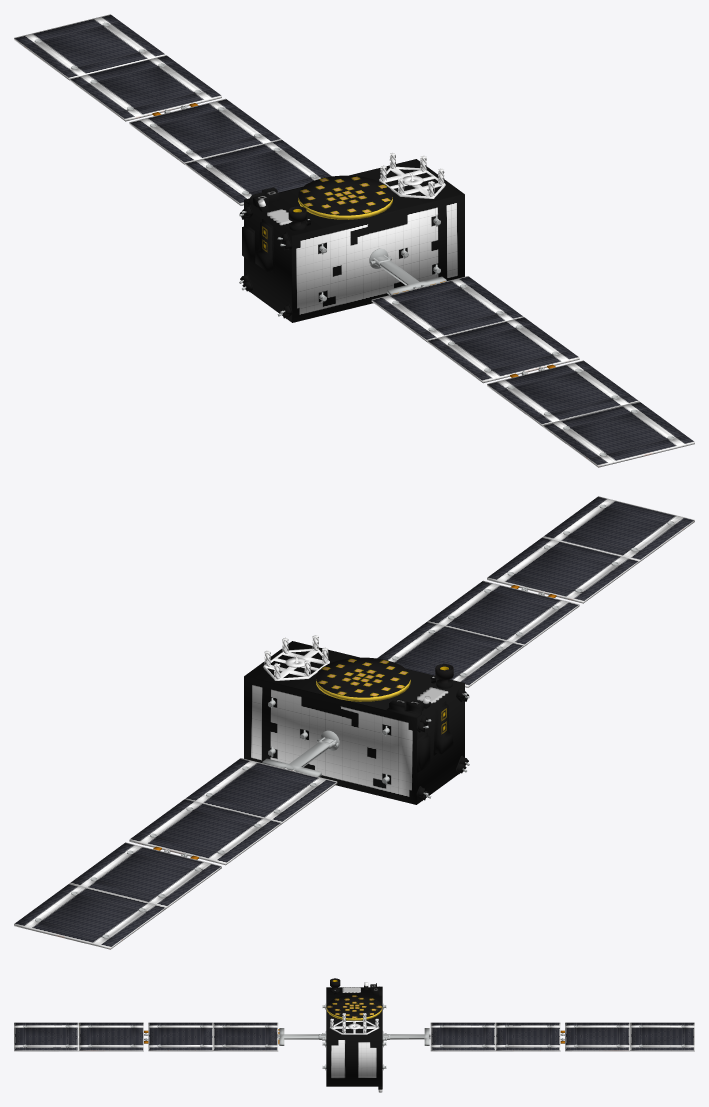
Rendered from galileo.glb.
3 views of the same model, one above another, from view 1: azimuth 30°, elevation 25°; view 2: azimuth 150°, elevation 25°; view 3: azimuth 270°, elevation 25° (orthographic). The views are drawn at different scales.
Visible parts, largest first — view 1: paneles, galileo_low_uv2; view 2: paneles, galileo_low_uv2; view 3: paneles, galileo_low_uv2.
Part boxes in pixels (left/top/right/bottom): paneles: left=14, top=14, right=694, bottom=467; galileo_low_uv2: left=239, top=153, right=464, bottom=322; paneles: left=14, top=496, right=694, bottom=949; galileo_low_uv2: left=244, top=635, right=469, bottom=804; paneles: left=14, top=1022, right=694, bottom=1051; galileo_low_uv2: left=322, top=978, right=386, bottom=1092.
Size of the model in its own units: 0.1044 by 0.0626 by 0.5775.
1 material, 1 textured.
